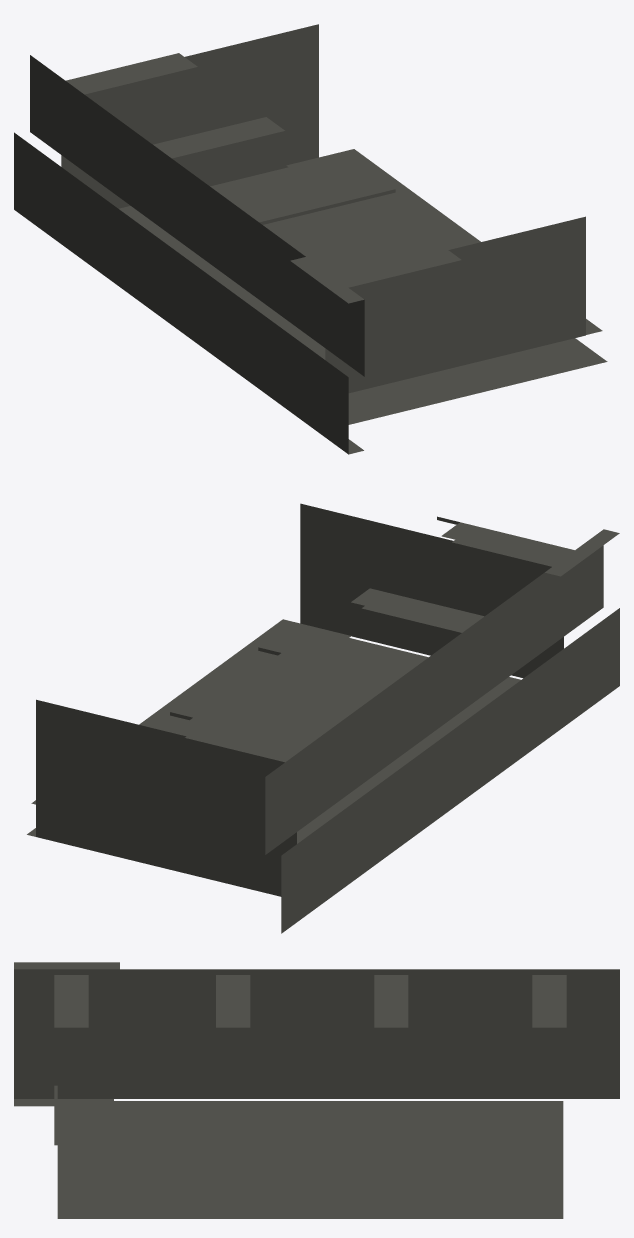
The picture shows the model from 3 angles, top to bottom: view 1: azimuth 30°, elevation 25°; view 2: azimuth 150°, elevation 25°; view 3: azimuth 270°, elevation 25°; orthographic projection. The views are drawn at different scales.
Size of the model in its own units: 0.895 by 0.4397 by 1.77.
